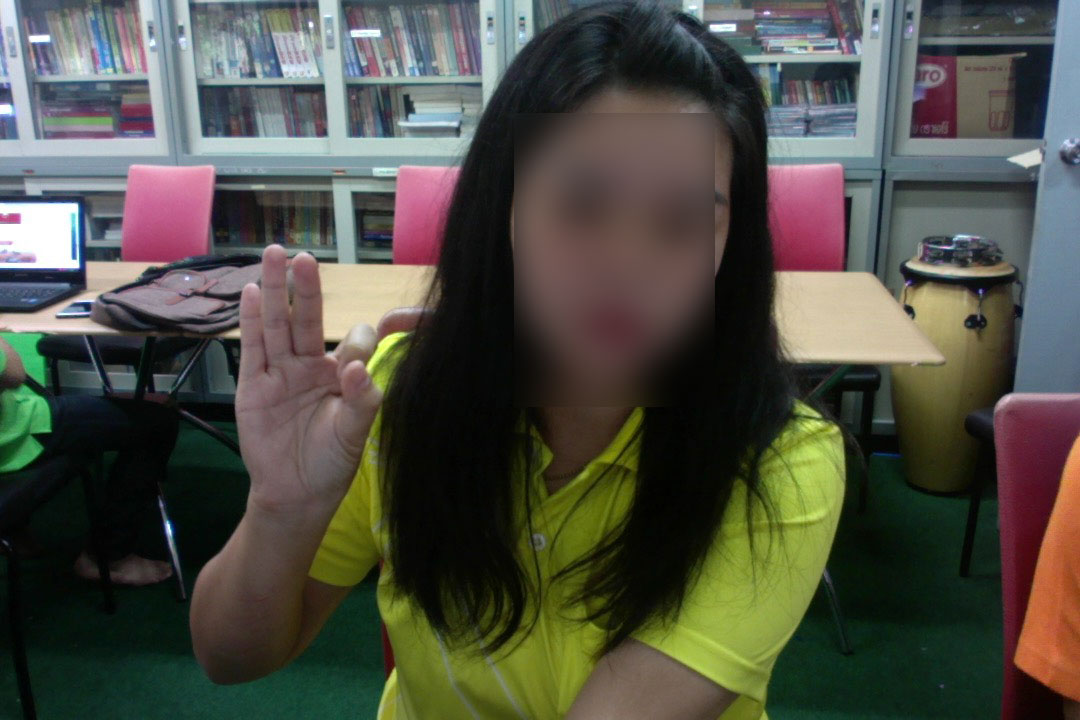for: (229, 237, 385, 503)
